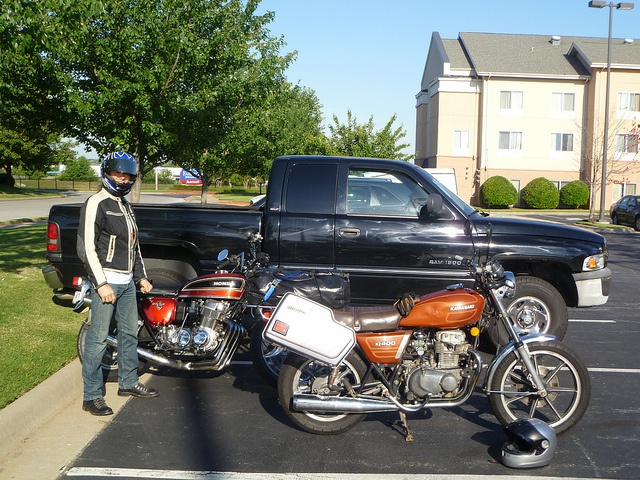non-vehicle: (261, 216, 593, 442), (136, 250, 294, 374)
